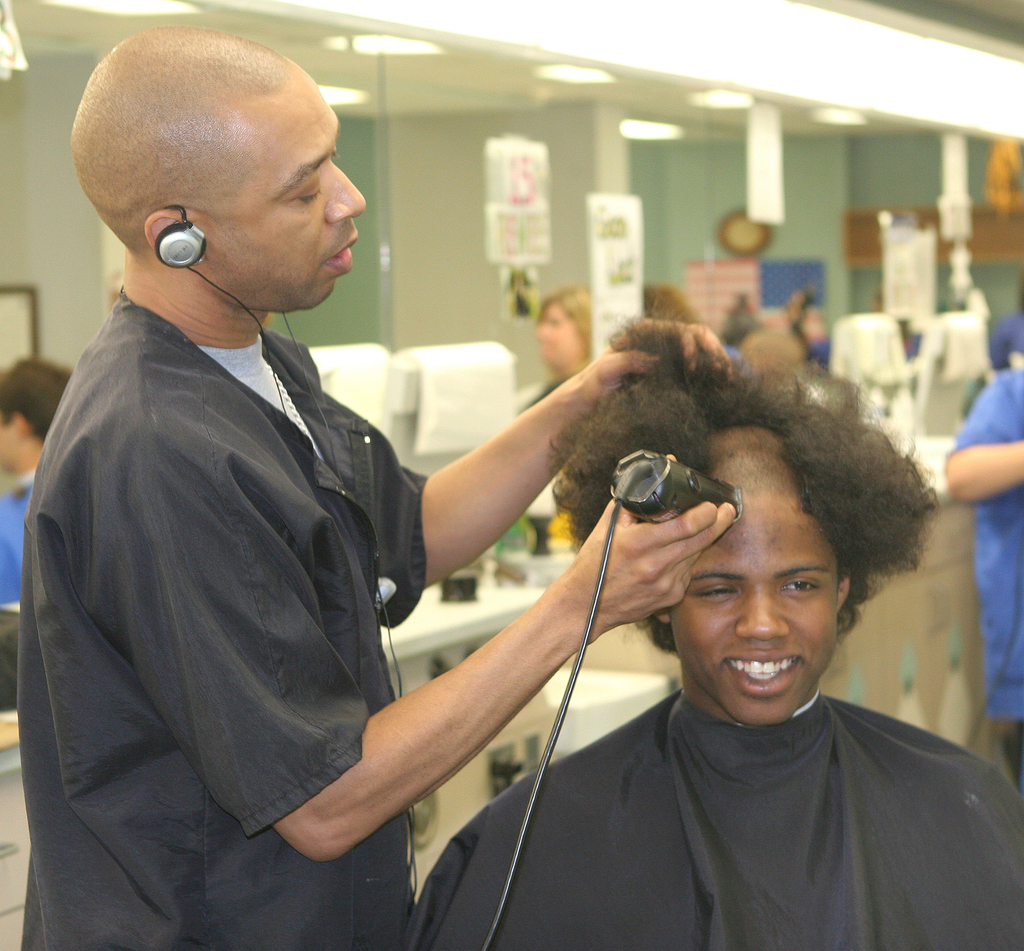Person: (0, 25, 1024, 951)
